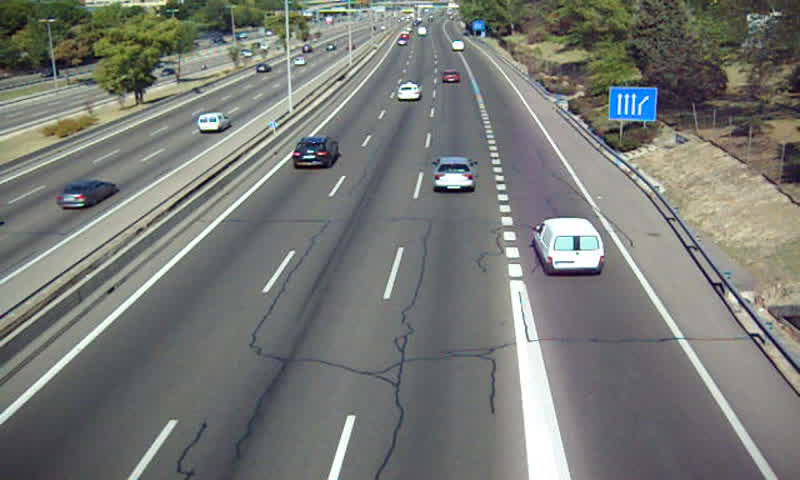car: (292, 137, 338, 170), (432, 157, 474, 192), (396, 82, 423, 101), (442, 70, 461, 85)
van: (532, 219, 607, 277)
